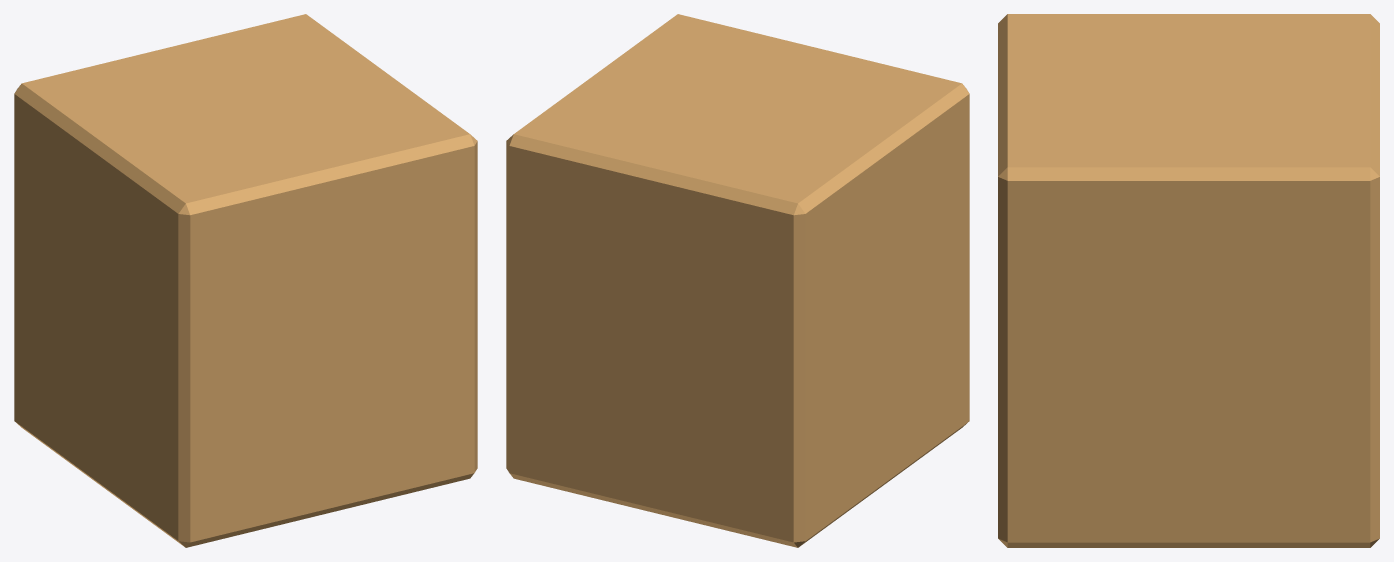
The model's file is wall_beech_1m.glb.
3 views of the same model, side by side, from view 1: azimuth 30°, elevation 25°; view 2: azimuth 150°, elevation 25°; view 3: azimuth 270°, elevation 25° (orthographic). The views are drawn at different scales.
Parts seen in each view (by area): view 1: Block.006; view 2: Block.006; view 3: Block.006.
Boxes of the visible parts, x1,y1,x2,y2 form: Block.006: [14, 14, 477, 547]; Block.006: [506, 14, 969, 547]; Block.006: [998, 14, 1379, 547].
Bounding box in the file's own units: 1 × 1.1 × 1.
